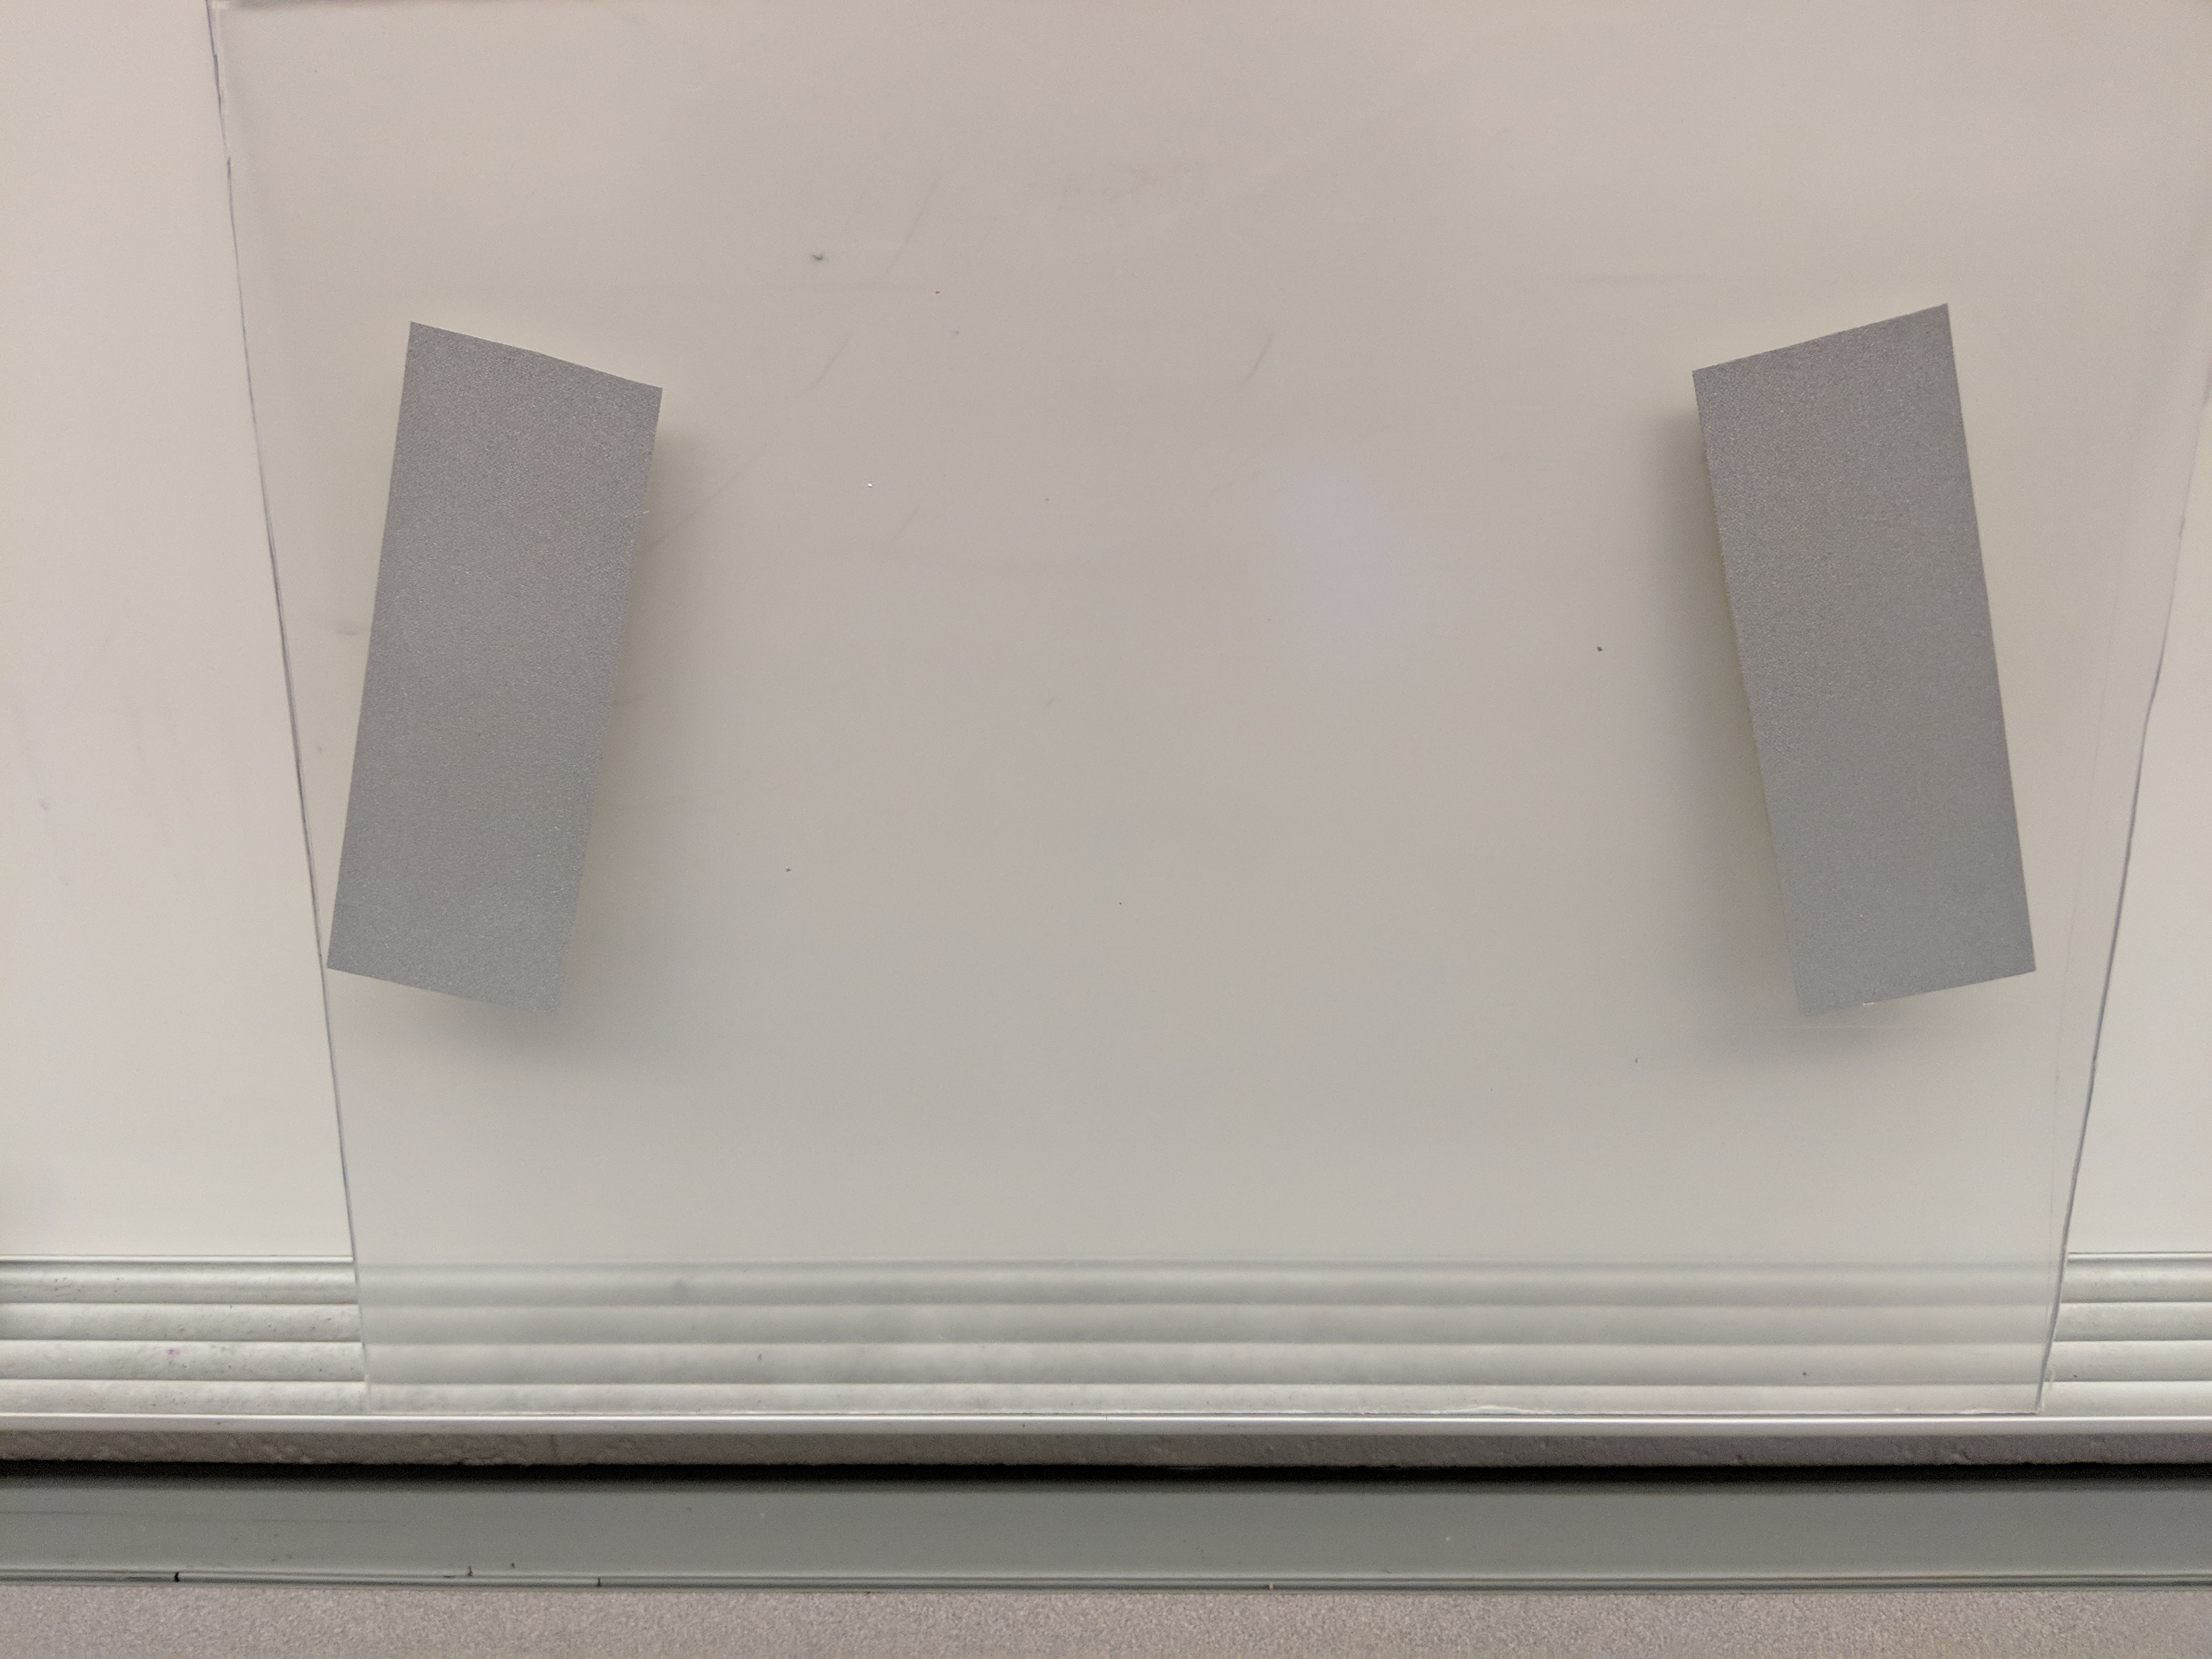vision_target: (303, 291, 2076, 1053)
